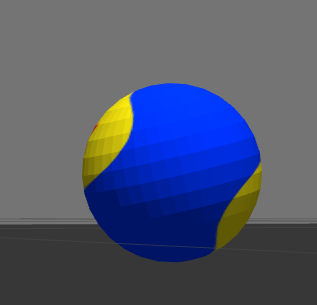toy story ball: (82, 83, 262, 261)
